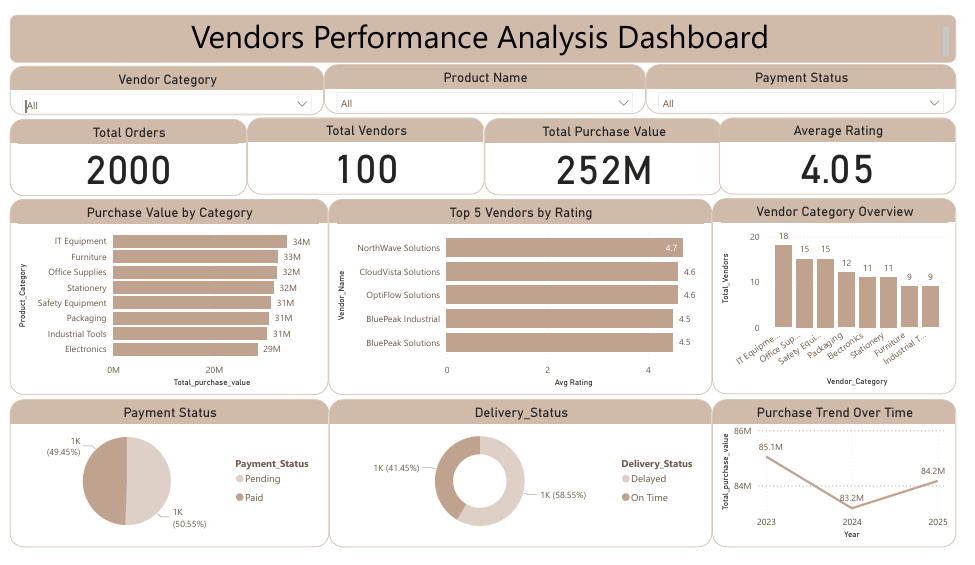

This screenshot's page, from the dashboard's own definition file:
{"tool":"powerbi","page":{"name":"Page 1","canvas":[1280,720],"ordinal":0},"visuals":[{"type":"card","title":"Total Orders","fields":{"Values":["purchases.Total_order"]},"box":[0,141.1,320.8,104],"z":0},{"type":"card","title":"Total Vendors","fields":{"Values":["purchases.Total_Vendors"]},"box":[320.8,139.4,320.8,104],"z":1000},{"type":"card","title":"Total Purchase Value","fields":{"Values":["purchases.Total_purchase_value"]},"box":[642.4,140.5,322,103.9],"z":2000},{"type":"card","title":"Average Rating","fields":{"Values":["purchases.Average_rating"]},"box":[959.2,139.4,320.8,104],"z":3000},{"type":"clusteredBarChart","title":"Purchase Value by Category","fields":{"Category":["purchases.Product_Category"],"Y":["purchases.Total_purchase_value"]},"box":[0,248.6,431.4,265],"z":4000},{"type":"slicer","title":"Vendor Category","fields":{"Values":["vendors.Vendor_Category"]},"box":[0,68.9,425,67],"z":5000},{"type":"slicer","title":"Product Name","fields":{"Values":["purchases.Product_Name"]},"box":[425,67.2,435.1,67],"z":6000},{"type":"slicer","title":"Payment Status","fields":{"Values":["purchases.Payment_Status"]},"box":[860.1,67.2,420,67],"z":7000},{"type":"clusteredBarChart","title":"Top 5 Vendors by Rating","fields":{"Category":["vendors.Vendor_Name"],"Y":["purchases.Avg Rating"]},"box":[431.4,248.6,518.6,265],"z":8000},{"type":"pieChart","title":"Payment Status","fields":{"Category":["purchases.Payment_Status"],"Y":["purchases.Total_order"]},"box":[0,520,431.7,200],"z":9000},{"type":"donutChart","title":"Delivery_Status","fields":{"Category":["purchases.Delivery_Status"],"Y":["purchases.Total_order"]},"box":[431.7,520,518.3,200],"z":10000},{"type":"clusteredColumnChart","title":"Vendor Category Overview","fields":{"Category":["vendors.Vendor_Category"],"Y":["purchases.Total_Vendors"]},"box":[950,248.3,330,265],"z":11000},{"type":"lineChart","title":"Purchase Trend Over Time","fields":{"Category":["purchases.Order_Date.Variation.Date Hierarchy.Year","purchases.Order_Date.Variation.Date Hierarchy.Month"],"Y":["purchases.Total_purchase_value"]},"box":[950,520,330,200],"z":12000},{"type":"textbox","box":[0,0,1280,65],"z":13000}]}

Visuals, with their boxes in screenshot pixels (x1, y1, x2, y2), scaled from the page's 1280x720 canvas onto the 975x565 screenshot:
"Total Orders" card: Rect(0, 111, 244, 192)
"Total Vendors" card: Rect(244, 109, 489, 191)
"Total Purchase Value" card: Rect(489, 110, 735, 192)
"Average Rating" card: Rect(731, 109, 974, 191)
"Purchase Value by Category" clusteredBarChart: Rect(0, 195, 329, 403)
"Vendor Category" slicer: Rect(0, 54, 324, 107)
"Product Name" slicer: Rect(324, 53, 655, 105)
"Payment Status" slicer: Rect(655, 53, 974, 105)
"Top 5 Vendors by Rating" clusteredBarChart: Rect(329, 195, 724, 403)
"Payment Status" pieChart: Rect(0, 408, 329, 564)
"Delivery_Status" donutChart: Rect(329, 408, 724, 564)
"Vendor Category Overview" clusteredColumnChart: Rect(724, 195, 974, 403)
"Purchase Trend Over Time" lineChart: Rect(724, 408, 974, 564)
textbox: Rect(0, 0, 974, 51)
